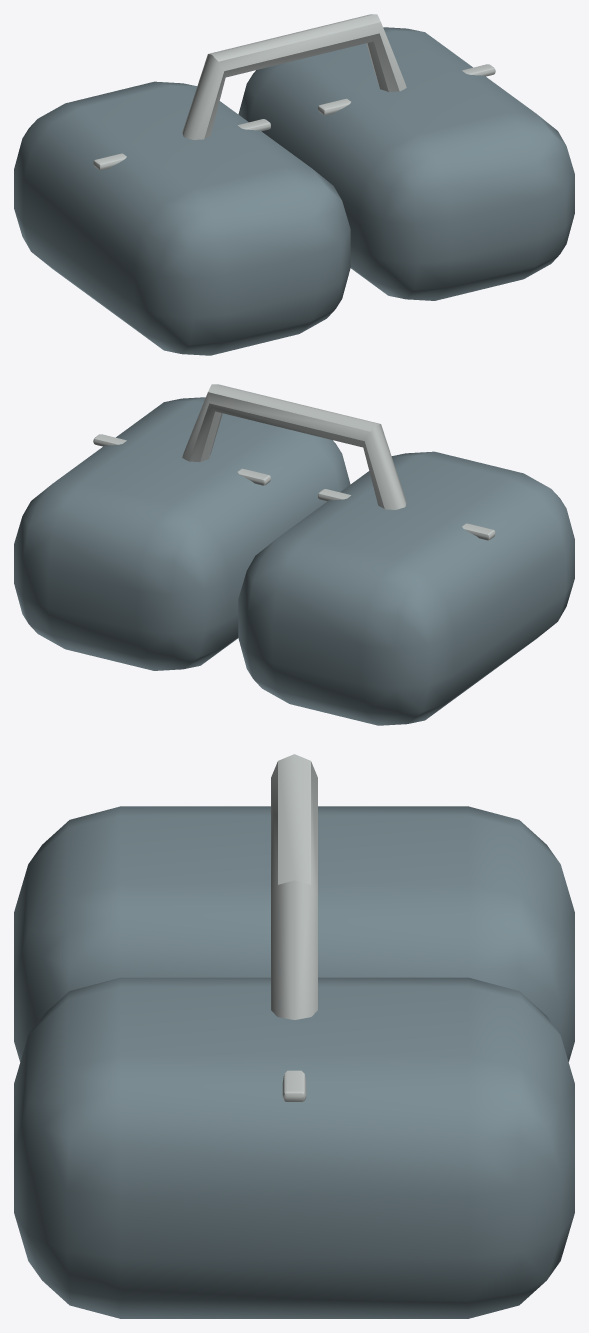
Rendered from sandbag.glb.
3 renders of one model, top to bottom at view 1: azimuth 30°, elevation 25°; view 2: azimuth 150°, elevation 25°; view 3: azimuth 270°, elevation 25°, orthographic. The views are drawn at different scales.
Visible parts, largest first — view 1: weight_bag_left, weight_bag_right, carry_webbing, stitched_seam.001, stitched_seam; view 2: weight_bag_left, weight_bag_right, carry_webbing, stitched_seam.001, stitched_seam; view 3: weight_bag_right, weight_bag_left, carry_webbing, stitched_seam.001.
Boxes of the visible parts, left/top/right/bottom form: weight_bag_left: left=14, top=81, right=350, bottom=355; weight_bag_right: left=238, top=27, right=574, bottom=300; carry_webbing: left=182, top=14, right=406, bottom=139; stitched_seam.001: left=318, top=64, right=495, bottom=115; stitched_seam: left=93, top=119, right=270, bottom=170; weight_bag_left: left=238, top=451, right=574, bottom=725; weight_bag_right: left=14, top=397, right=350, bottom=670; carry_webbing: left=182, top=384, right=406, bottom=509; stitched_seam.001: left=93, top=434, right=270, bottom=485; stitched_seam: left=318, top=489, right=495, bottom=540; weight_bag_right: left=14, top=977, right=574, bottom=1318; weight_bag_left: left=14, top=806, right=574, bottom=1061; carry_webbing: left=271, top=754, right=317, bottom=1019; stitched_seam.001: left=282, top=1070, right=306, bottom=1101.
Bounding box in the file's own units: 0.5 × 0.2638 × 0.36.
